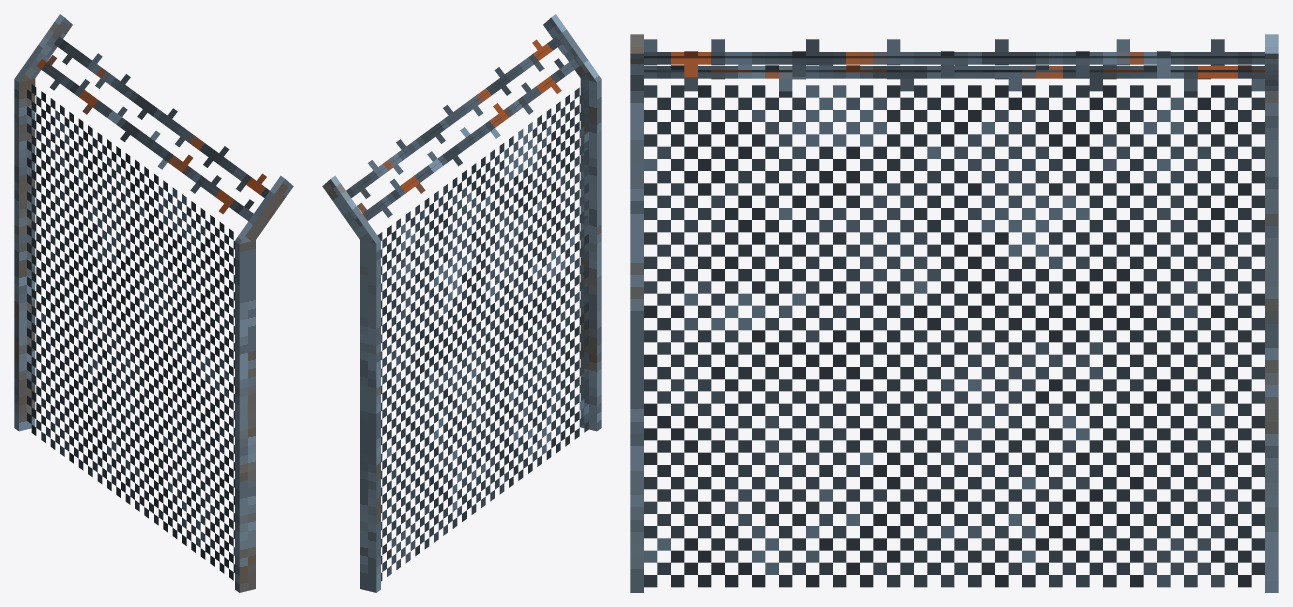
The model's file is Fence.gltf.
The picture shows the model from 3 angles, left to right: view 1: azimuth 30°, elevation 25°; view 2: azimuth 150°, elevation 25°; view 3: azimuth 270°, elevation 25°; orthographic projection. The views are drawn at different scales.
Parts seen in each view (by area): view 1: Wire, Fencepost (×2), Fence; view 2: Wire, Fencepost (×2), Fence; view 3: Wire, BarbBillboard (×2), Fencepost (×2), Fence.
Boxes of the visible parts, <box> form: Wire: <box>27,84,234,580</box>; Fencepost (×2): <box>14,14,293,592</box>; Fence: <box>37,36,269,221</box>; Wire: <box>377,81,588,581</box>; Fencepost (×2): <box>322,14,601,592</box>; Fence: <box>346,36,578,221</box>; Wire: <box>644,85,1264,587</box>; BarbBillboard (×2): <box>644,39,1264,91</box>; Fencepost (×2): <box>630,34,1278,592</box>; Fence: <box>644,51,1264,79</box>.
Size of the model in its own units: 0.4439 by 2.96 by 3.
Materials: 1 (1 with a texture image).
